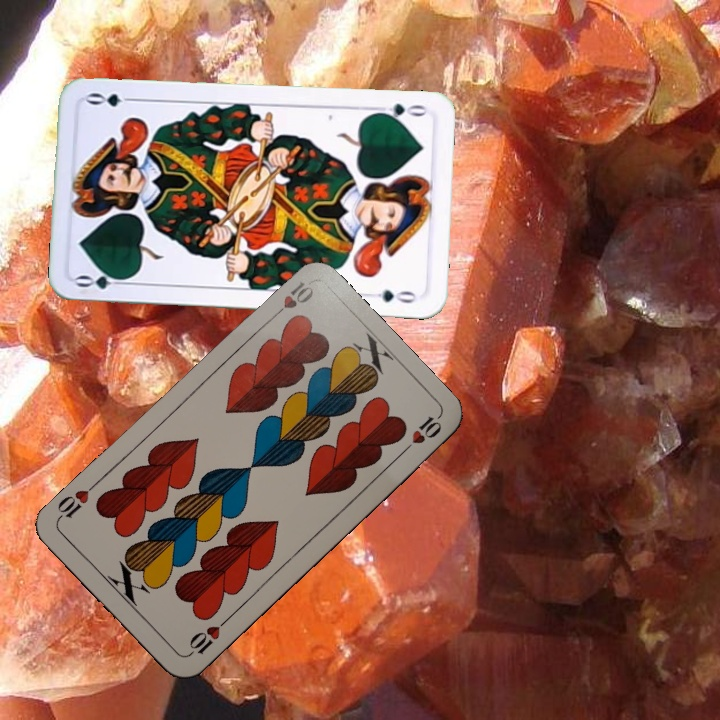GO: (370, 99, 429, 124), (73, 270, 132, 292)
H10: (266, 277, 317, 323), (184, 614, 231, 659)
